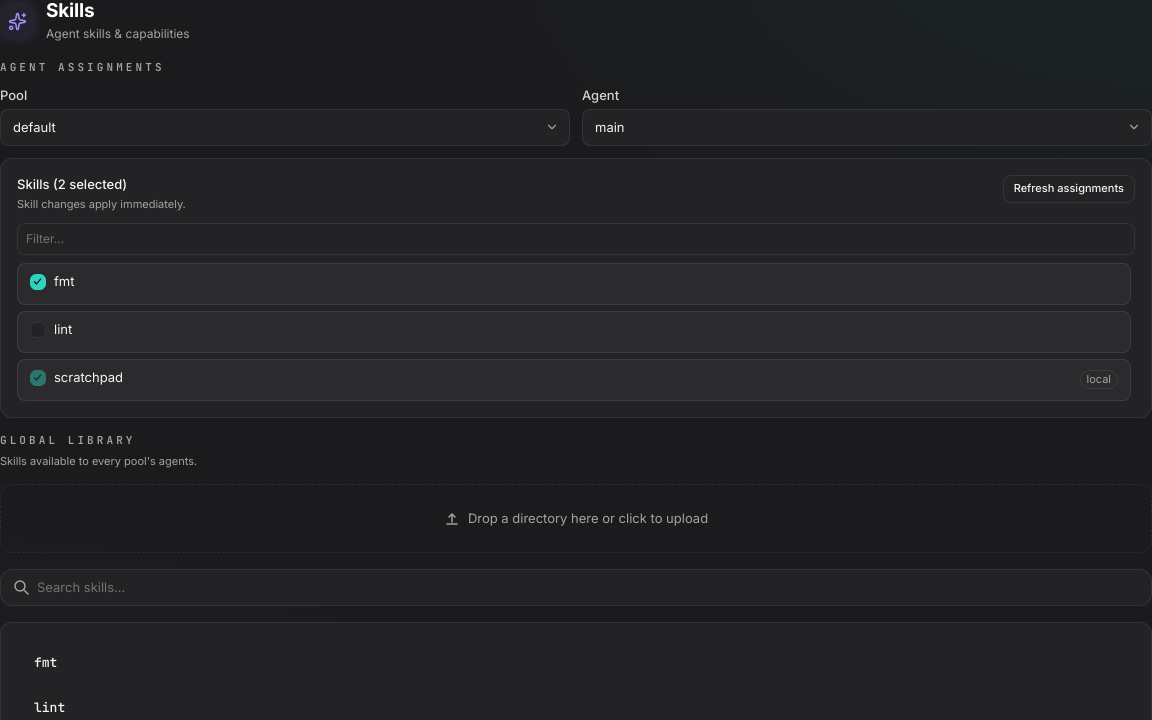
Test: GlobalSkillsView › selects pool and agent context and distinguishes global from assigned skills
Expected: the checkbox labelled "fmt" is checked, [30, 274, 46, 290]
Expected: the checkbox labelled "scratchpad" is checked, [30, 370, 46, 386]
Click the button named "Pool" at (34, 127), box [0, 109, 570, 146]
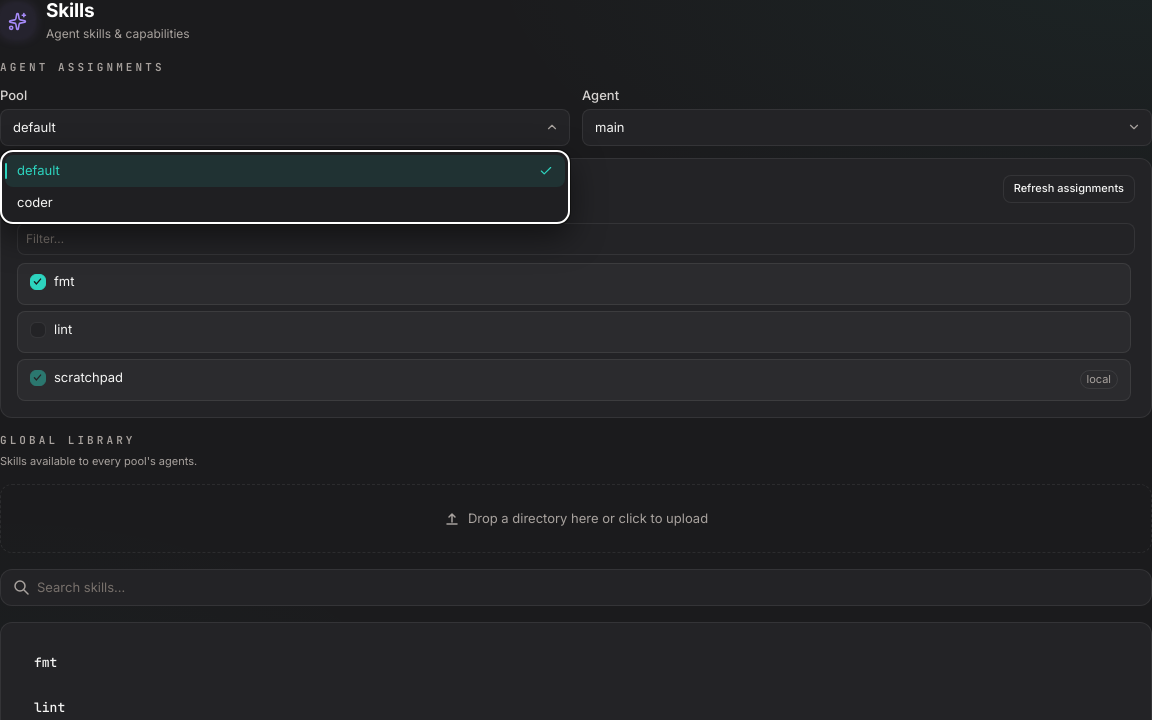
Click the option "coder" at (35, 202), box [17, 194, 53, 210]
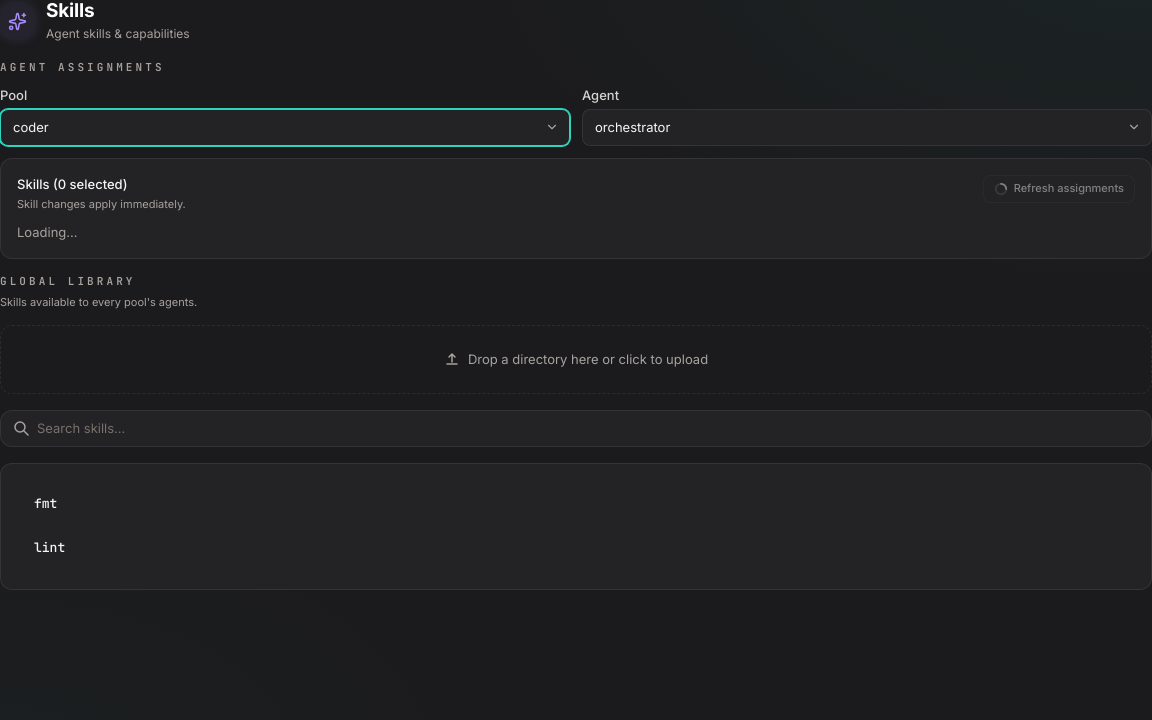
Click the button named "Agent" at (633, 127), box [582, 109, 1151, 146]
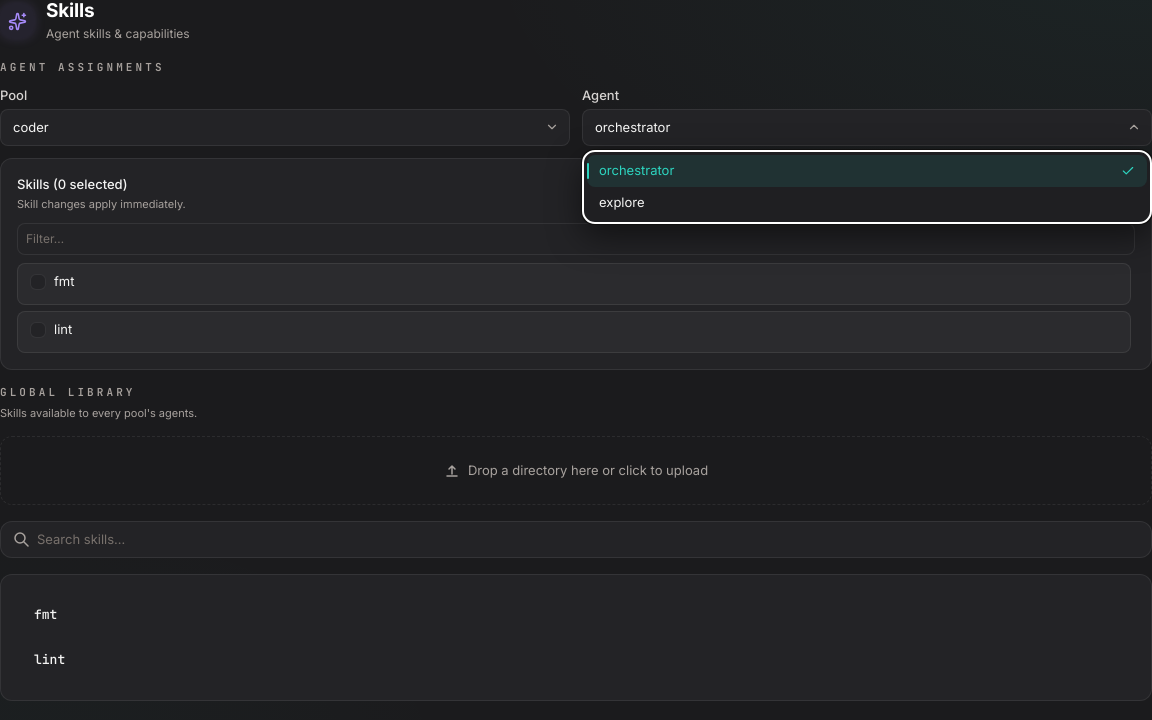
Click the option "explore" at (622, 202), box [599, 194, 644, 210]
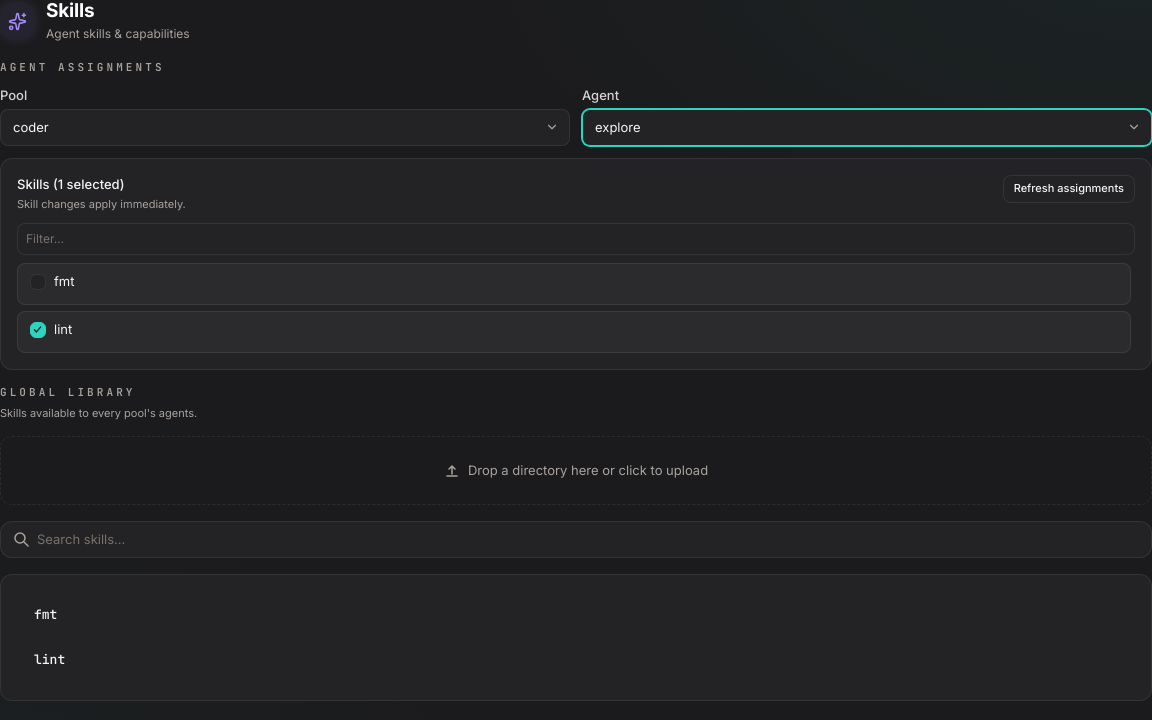
Result: the checkbox labelled "lint" is checked at [30, 322, 46, 338]
